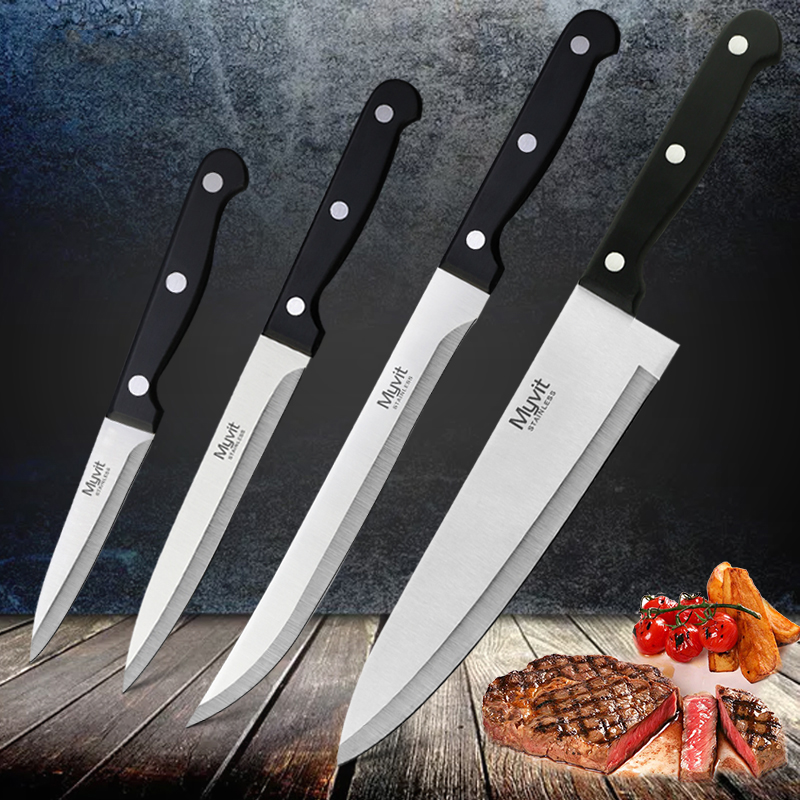knief: (1, 12, 781, 725)
